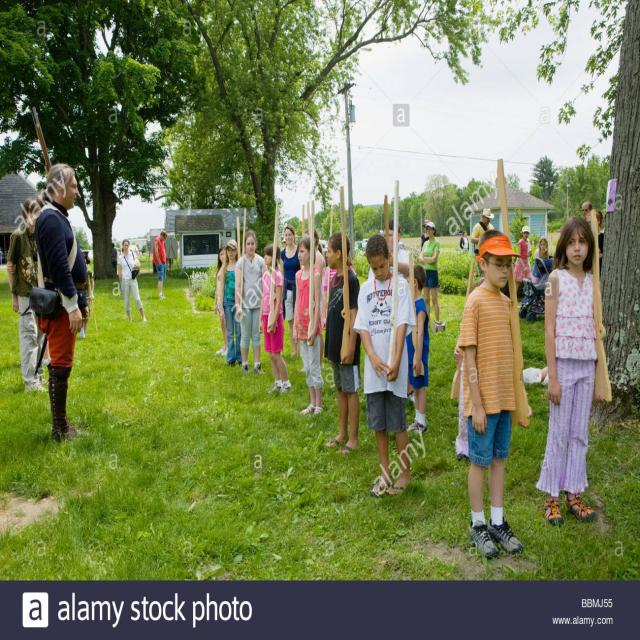body: (455, 226, 535, 563), (532, 212, 601, 528), (350, 229, 418, 499), (32, 162, 92, 444), (6, 195, 50, 394), (323, 231, 361, 457), (290, 233, 326, 418), (257, 242, 294, 400), (324, 235, 361, 392), (232, 228, 270, 378), (455, 276, 485, 462), (405, 264, 430, 436), (302, 227, 326, 371), (280, 223, 304, 359), (368, 218, 417, 283), (218, 238, 242, 368), (418, 220, 442, 330), (117, 238, 148, 323), (470, 208, 496, 279), (213, 244, 228, 357), (512, 225, 534, 294), (587, 210, 605, 280), (78, 262, 94, 339), (152, 230, 169, 300), (533, 236, 550, 280), (40, 333, 51, 367), (420, 218, 430, 247), (110, 242, 118, 276), (459, 229, 470, 253), (581, 200, 593, 218), (0, 244, 8, 267), (320, 242, 327, 266), (361, 238, 368, 253), (603, 212, 607, 234), (280, 236, 286, 249)
